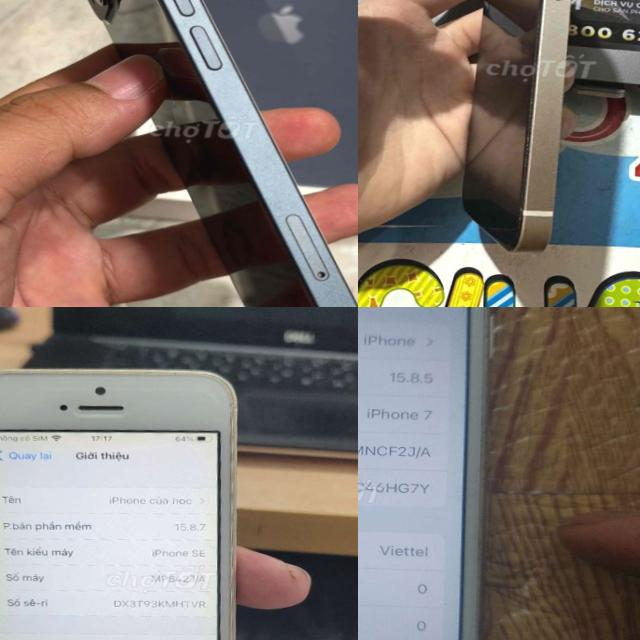gen_12_13: (41, 0, 358, 307), (472, 0, 612, 259)
gen_6: (0, 367, 236, 640)
gen_7_8: (358, 307, 510, 640)
